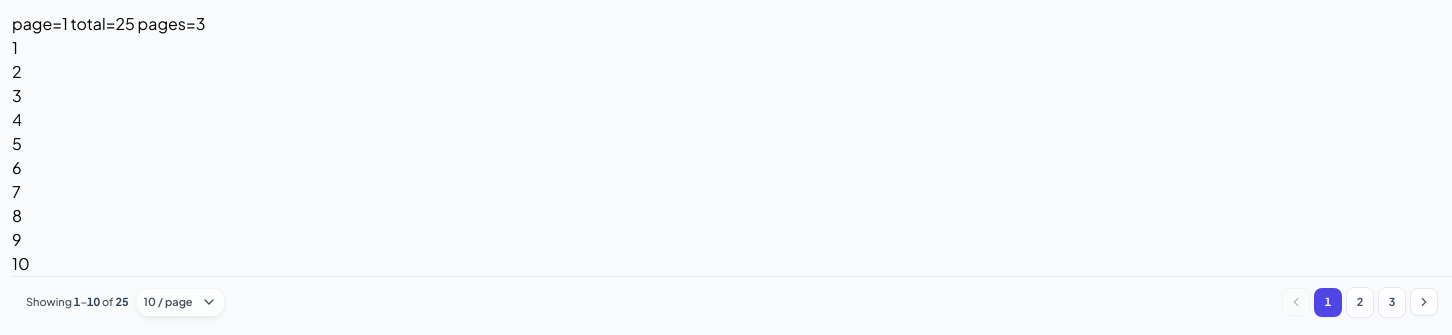
Test: usePagination › advances a page and reports the correct 1-based range
Click the button named "Page 2": coordinates (1360, 302) [1346,287,1374,318]
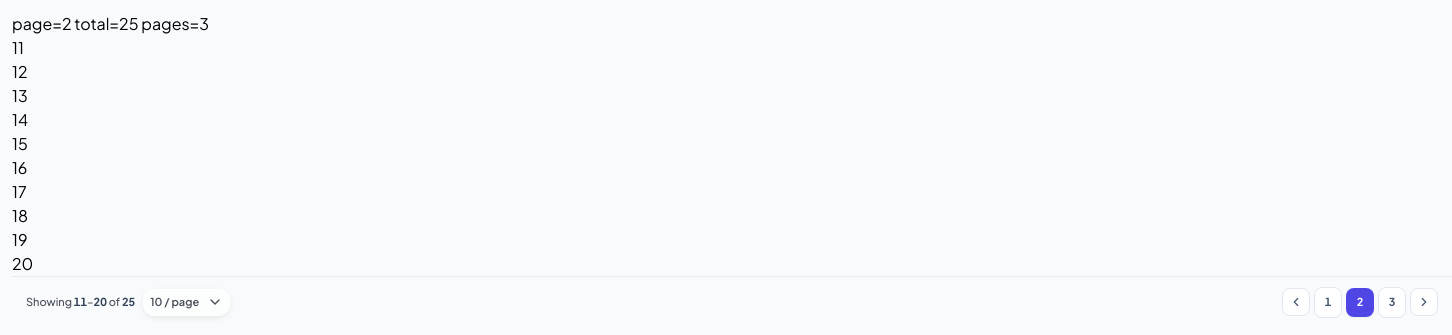
Check: the text with test id "meta" reads "page=2 total=25 pages=3", box [12,13,209,34]
Check: the message reads "Showing 11–20 of 25", box [26,294,135,310]
